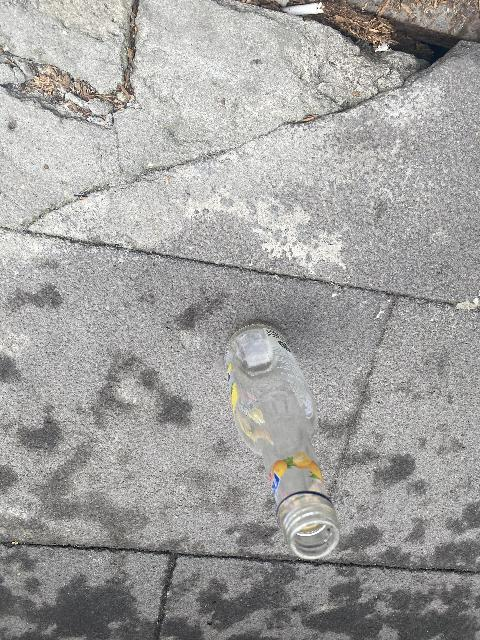Cam: (208, 324, 343, 562)
